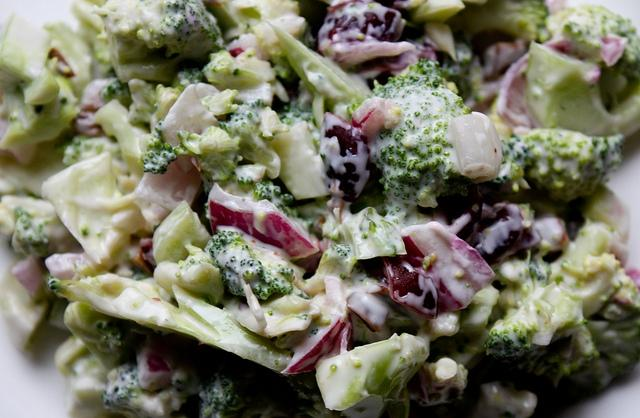broccoli: (366, 58, 472, 226), (484, 282, 600, 386), (316, 332, 430, 417), (514, 126, 626, 203), (102, 0, 226, 63), (204, 230, 296, 300), (217, 99, 290, 179), (200, 349, 280, 418), (545, 5, 640, 63), (446, 0, 552, 46), (100, 364, 192, 416), (173, 126, 243, 182), (296, 244, 358, 296), (12, 205, 56, 273), (287, 369, 341, 418), (17, 57, 59, 106), (128, 79, 157, 125), (98, 79, 134, 111), (384, 105, 402, 129)
celery: (525, 41, 637, 138), (281, 312, 352, 374)
onion: (208, 182, 319, 258), (496, 38, 574, 130), (281, 314, 354, 374), (318, 0, 407, 47), (450, 111, 504, 184), (161, 84, 219, 148), (134, 160, 204, 212), (352, 48, 419, 80), (482, 37, 526, 82), (0, 118, 38, 166), (351, 96, 394, 138), (136, 344, 172, 392), (11, 254, 47, 298), (407, 366, 448, 404), (481, 231, 520, 266), (534, 216, 570, 252), (45, 252, 85, 280), (601, 38, 628, 66), (81, 78, 108, 104), (624, 266, 640, 288), (420, 47, 437, 62)
